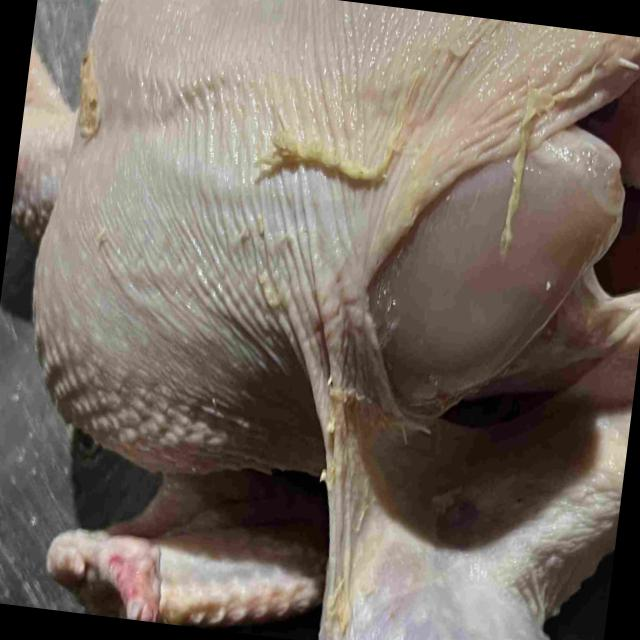breast: (34, 0, 628, 460)
leg: (313, 429, 553, 640)
neck: (9, 52, 69, 237)
wing: (44, 472, 322, 627)
